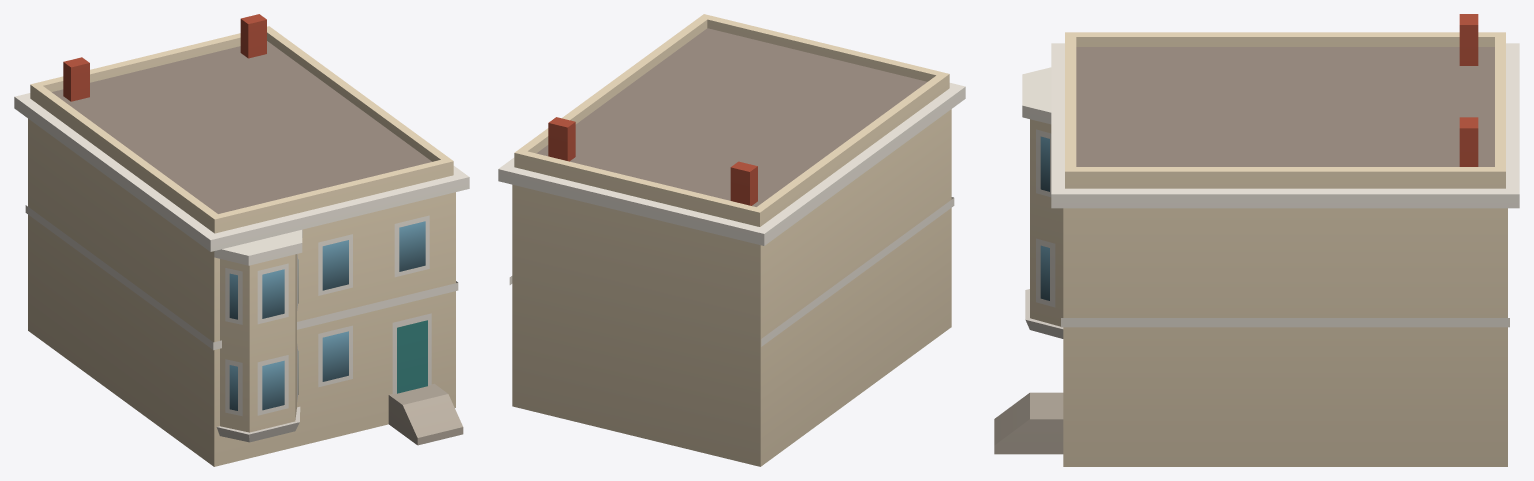
File: beacon_n16_far.glb
3 renders of one model, left to right at view 1: azimuth 30°, elevation 25°; view 2: azimuth 150°, elevation 25°; view 3: azimuth 270°, elevation 25°, orthographic. The views are drawn at different scales.
Visible parts, largest first — view 1: beacon_n16_far; view 2: beacon_n16_far; view 3: beacon_n16_far.
Boxes of the visible parts, left/top/right/bottom form: beacon_n16_far: left=14, top=14, right=469, bottom=466; beacon_n16_far: left=498, top=14, right=965, bottom=466; beacon_n16_far: left=994, top=14, right=1519, bottom=466.
Size of the model in its own units: 9.64 by 9.69 by 14.18.
1 material, 1 textured.
